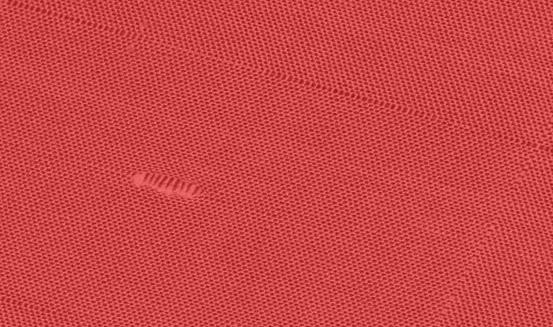slub: (125, 165, 208, 205)
